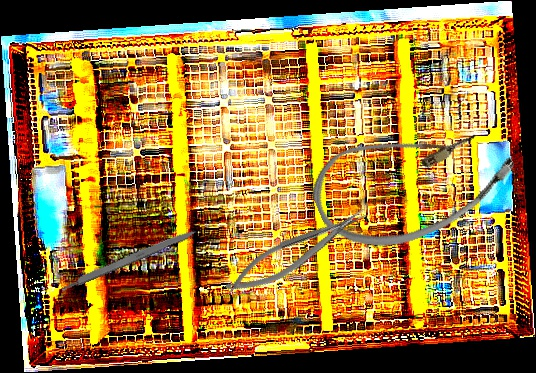Cannula: (301, 92, 526, 270)
Needle Holder: (218, 201, 375, 304)
Scalpel Handle: (58, 225, 200, 293)
